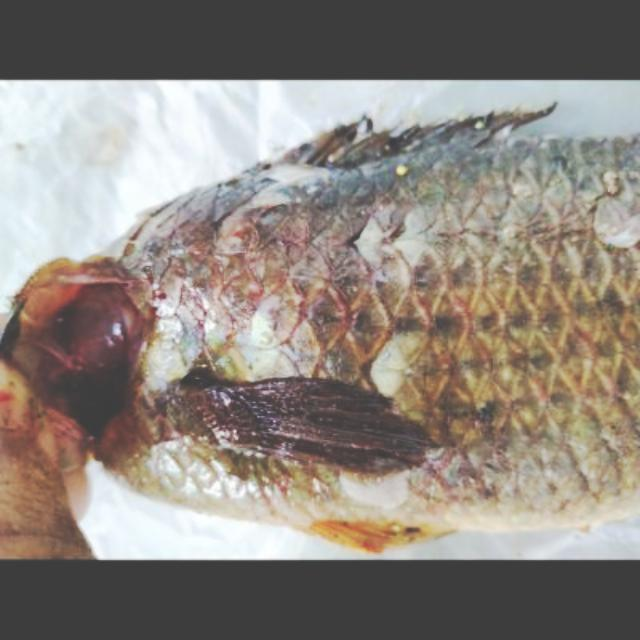Flavobacterium -Bacterial Gill Disease-: (8, 109, 640, 558), (0, 106, 638, 550)
